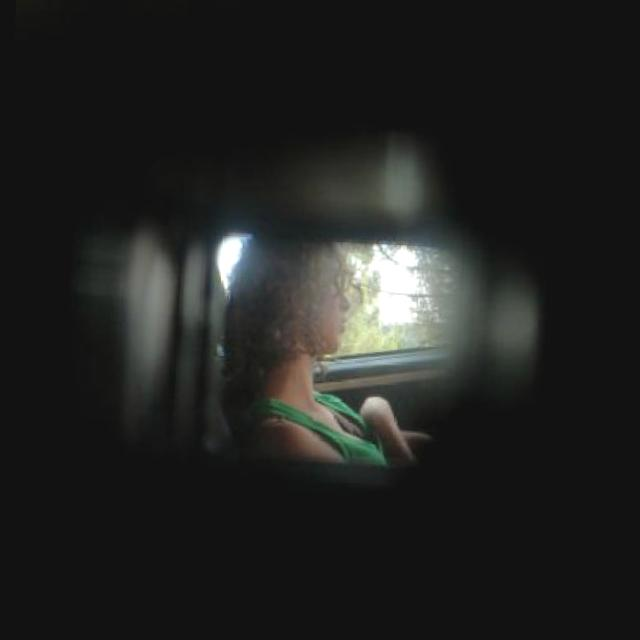Person: (200, 246, 437, 499)
